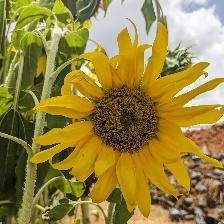sunflower: (47, 48, 209, 198)
